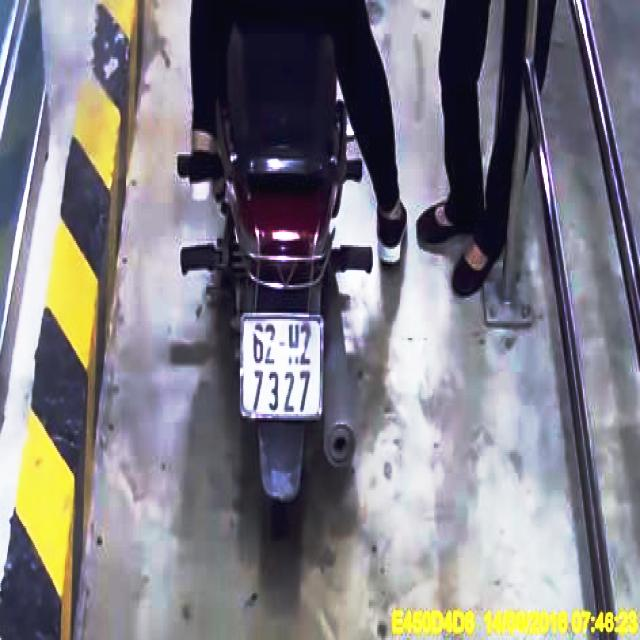license_plate: (243, 314, 325, 423)
